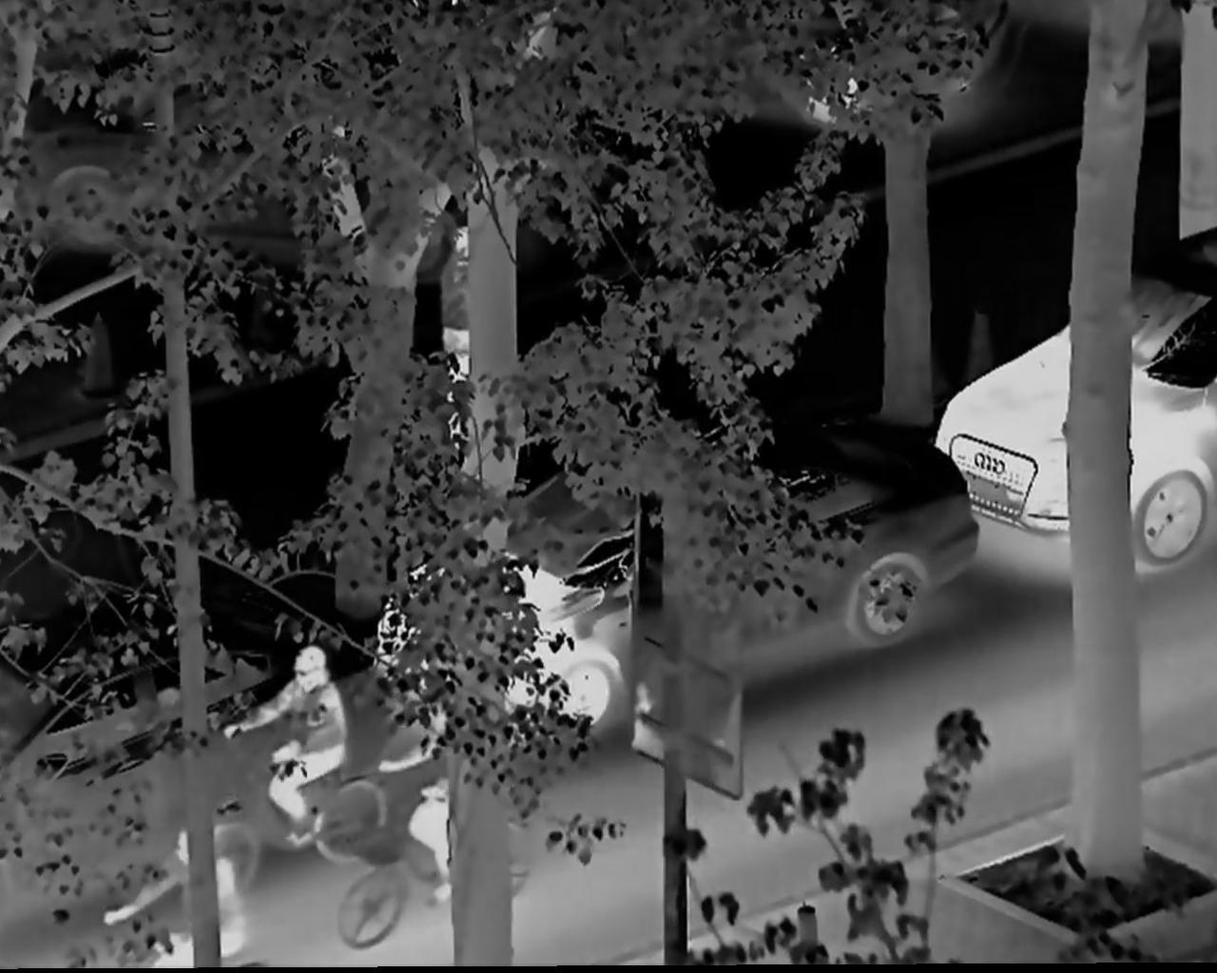person: (379, 677, 516, 896), (232, 638, 344, 858), (432, 211, 487, 395)
